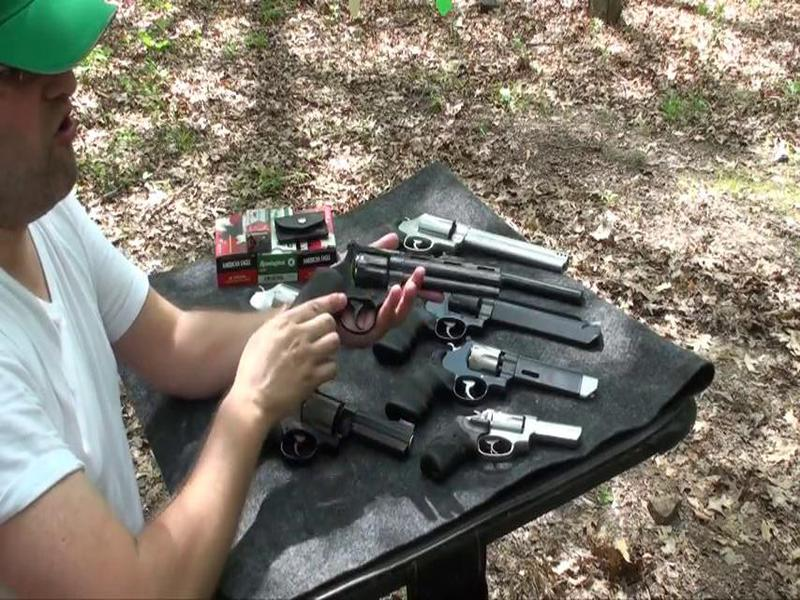Revolver: (283, 231, 511, 367)
